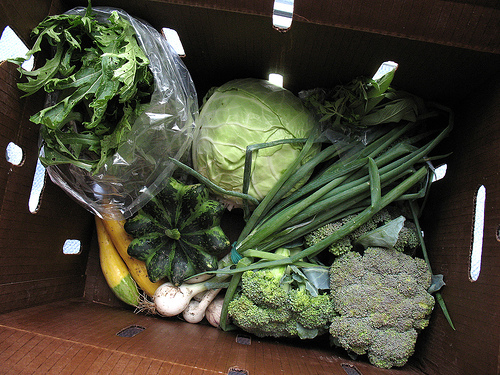cabbage: (193, 87, 313, 205)
